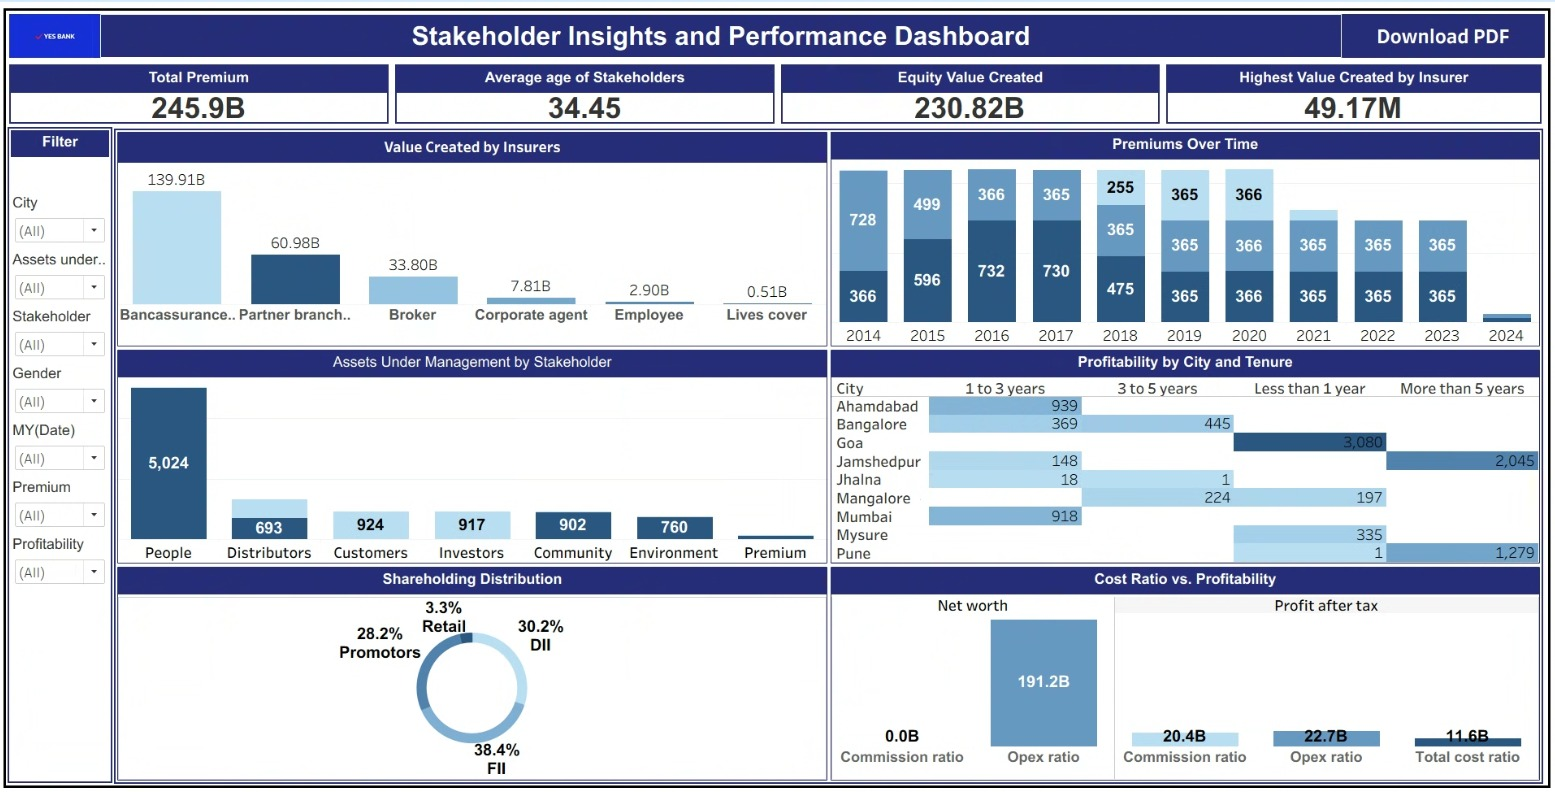

The dashboard page shown, as its layout file describes it:
{"tool":"tableau","page":{"name":"Dashboard 1","canvas":[1000,1000],"units":"permille","ordinal":0},"visuals":[{"type":"image","param":"Image/Yes_Bank_Logo-01.png","box":[9,19.8,67.3,71.2]},{"type":"text","box":[76.3,19.8,764.4,71.2]},{"type":"dashboard-object","box":[840.8,19.8,150.2,71.2]},{"type":"worksheet","title":"Total Premium","mark":"Automatic","box":[6.6,96.3,247,106.9]},{"type":"worksheet","title":"Average age of Stakeholders","mark":"Automatic","box":[253.6,96.3,247,106.9]},{"type":"worksheet","title":"Equity Value Created","mark":"Automatic","box":[500.6,96.3,246.4,106.9]},{"type":"worksheet","title":"Highest Value Created by Insurer","mark":"Automatic","box":[747,96.3,246.4,106.9]},{"type":"worksheet","title":"filter","mark":"Automatic","box":[9,205.8,75.1,101.6]},{"type":"worksheet","title":"Value Created by Insurers","mark":"Automatic","rows":["Value Created"],"cols":["Insurer"],"box":[87.7,208.4,450.7,257.3]},{"type":"worksheet","title":"Premiums Over Time","mark":"Bar","rows":["Premium 1"],"cols":["Date"],"box":[538.5,208.4,450.1,257.3]},{"type":"filter","title":"filter","param":"[federated.18o2qgc1r1k2ky1d5sym211whnhs].[none:City:nk]","box":[9,307.4,75.1,92.3]},{"type":"filter","title":"filter","param":"[federated.18o2qgc1r1k2ky1d5sym211whnhs].[none:Assets under management:nk]","box":[9,399.7,75.1,92.3]},{"type":"worksheet","title":"Assets Under Management by Stakeholder","mark":"Automatic","rows":["Assets under management"],"cols":["Stakeholder"],"box":[87.7,465.7,450.7,257.3]},{"type":"worksheet","title":"Profitability by City and Tenure","mark":"Square","rows":["City"],"cols":["Policy tenuer"],"box":[538.5,465.7,450.1,257.3]},{"type":"filter","title":"filter","param":"[federated.18o2qgc1r1k2ky1d5sym211whnhs].[none:Stakeholder:nk]","box":[9,492.1,75.1,92.3]},{"type":"filter","title":"filter","param":"[federated.18o2qgc1r1k2ky1d5sym211whnhs].[none:Gender:nk]","box":[9,584.4,75.1,92.3]},{"type":"filter","title":"filter","param":"[federated.18o2qgc1r1k2ky1d5sym211whnhs].[my:Date:ok]","box":[9,676.8,75.1,92.3]},{"type":"worksheet","title":"Shareholding Distribution","mark":"Pie","rows":["Calculation_0283698580549632","Calculation_0283698580549632"],"box":[87.7,723,450.7,257.2]},{"type":"worksheet","title":"Cost Ratio vs. Profitability","mark":"Automatic","rows":["Value Created"],"cols":["Profitability","Cost ratio"],"box":[538.5,723,450.1,257.2]},{"type":"filter","title":"filter","param":"[federated.18o2qgc1r1k2ky1d5sym211whnhs].[none:Premium 1:nk]","box":[9,769.1,75.1,92.3]},{"type":"filter","title":"filter","param":"[federated.18o2qgc1r1k2ky1d5sym211whnhs].[none:Profitability:nk]","box":[9,861.4,75.1,116.1]}]}

Visuals, with their boxes on the dashboard's canvas, which has no fixed pixel size, in thousandths of its width and height (x1, y1, x2, y2). These are canvas units, not pixel positions in the 1555x792 screenshot, which may show the page scaled, cropped or inside an application window:
image: [9, 20, 76, 91]
text: [76, 20, 841, 91]
dashboard-object: [841, 20, 991, 91]
"Total Premium" worksheet: [7, 96, 254, 203]
"Average age of Stakeholders" worksheet: [254, 96, 501, 203]
"Equity Value Created" worksheet: [501, 96, 747, 203]
"Highest Value Created by Insurer" worksheet: [747, 96, 993, 203]
"filter" worksheet: [9, 206, 84, 307]
"Value Created by Insurers" worksheet: [88, 208, 538, 466]
"Premiums Over Time" worksheet (Bar marks): [538, 208, 989, 466]
"filter" filter: [9, 307, 84, 400]
"filter" filter: [9, 400, 84, 492]
"Assets Under Management by Stakeholder" worksheet: [88, 466, 538, 723]
"Profitability by City and Tenure" worksheet (Square marks): [538, 466, 989, 723]
"filter" filter: [9, 492, 84, 584]
"filter" filter: [9, 584, 84, 677]
"filter" filter: [9, 677, 84, 769]
"Shareholding Distribution" worksheet (Pie marks): [88, 723, 538, 980]
"Cost Ratio vs. Profitability" worksheet: [538, 723, 989, 980]
"filter" filter: [9, 769, 84, 861]
"filter" filter: [9, 861, 84, 978]
